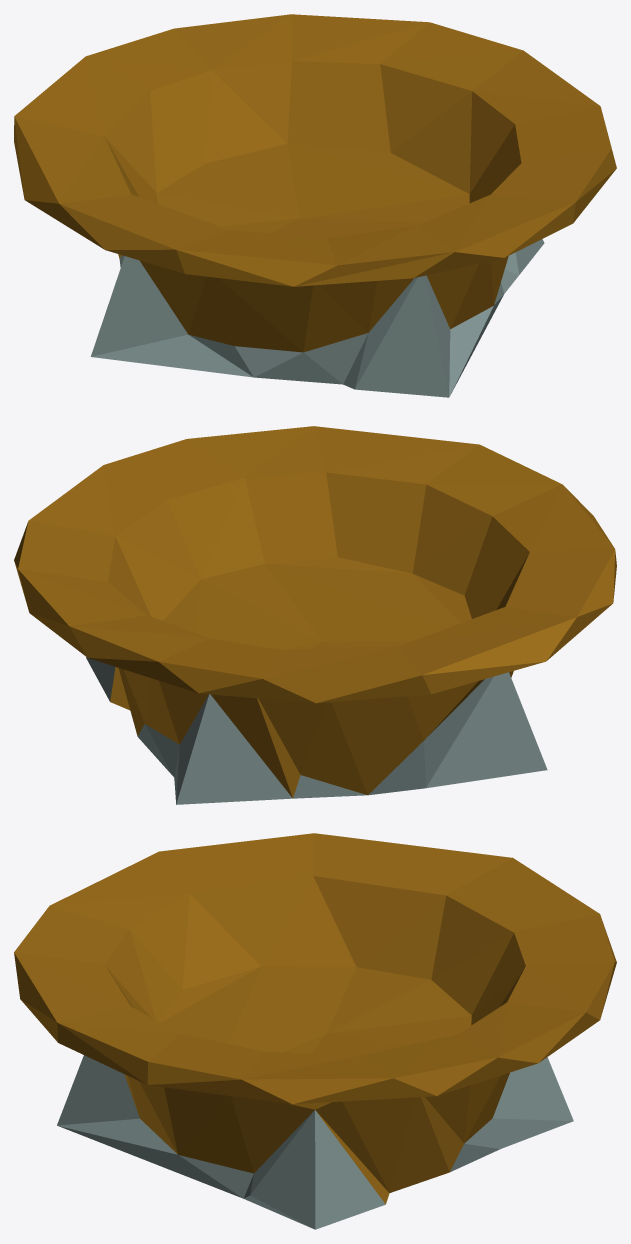
File: MDungeons_Plate_Sml_01.FBX
3 views of the same model, one above another, from view 1: azimuth 30°, elevation 25°; view 2: azimuth 150°, elevation 25°; view 3: azimuth 270°, elevation 25° (orthographic).
Visible parts, largest first — view 1: MDungeons_Plate_Sml_01_LOD0; view 2: MDungeons_Plate_Sml_01_LOD0; view 3: MDungeons_Plate_Sml_01_LOD0.
Part boxes in pixels (box(x1,y1,x2,y2)): MDungeons_Plate_Sml_01_LOD0: box(14, 14, 616, 397); MDungeons_Plate_Sml_01_LOD0: box(14, 426, 616, 804); MDungeons_Plate_Sml_01_LOD0: box(14, 833, 616, 1229).
Size of what is drawn, in the model's own units: 0.4303 by 0.1328 by 0.4318.
